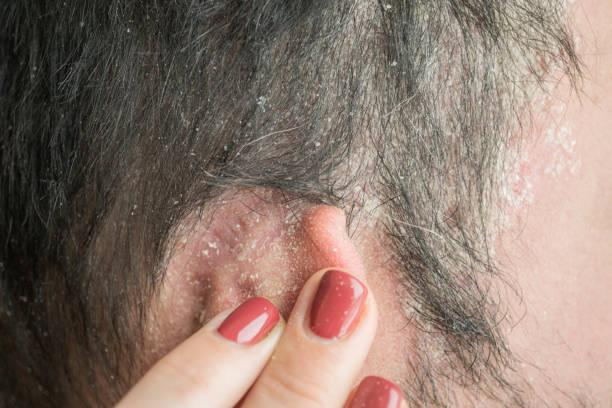dandruff: (12, 289, 51, 350), (169, 99, 205, 148), (313, 104, 338, 164), (384, 46, 409, 85), (111, 14, 140, 41), (123, 197, 148, 225), (250, 82, 269, 115)
